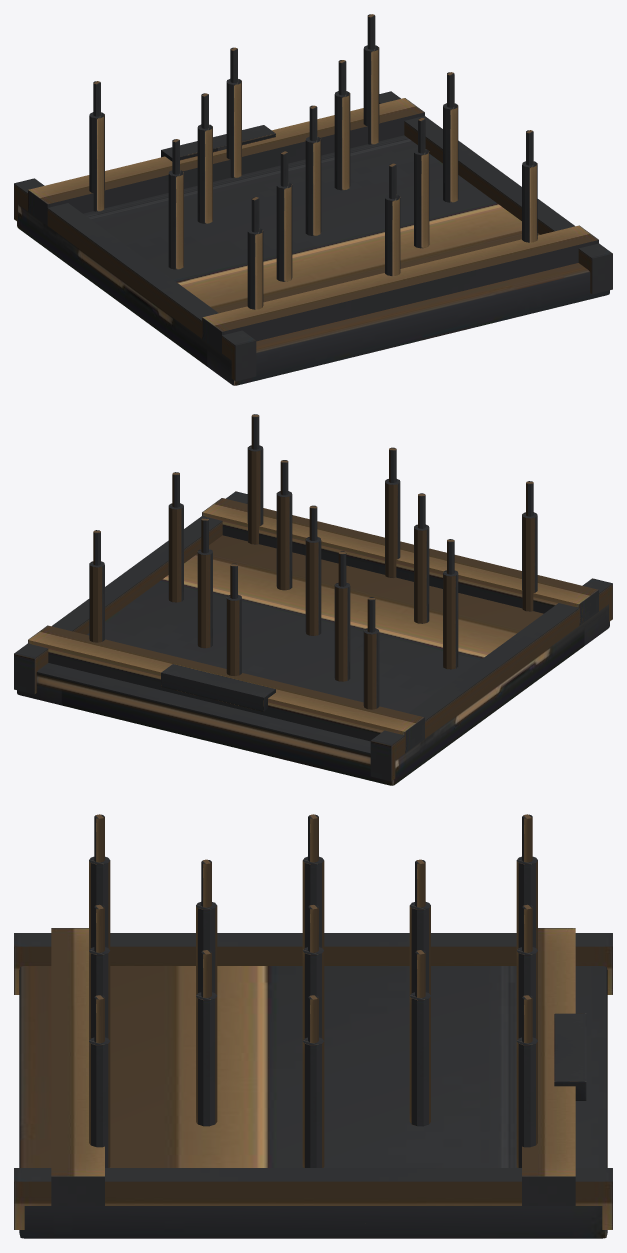
Rendered from DD_trap_spikes.glb.
3 renders of one model, top to bottom at view 1: azimuth 30°, elevation 25°; view 2: azimuth 150°, elevation 25°; view 3: azimuth 270°, elevation 25°, orthographic. The views are drawn at different scales.
Parts seen in each view (by area): view 1: DD_trap_spikes; view 2: DD_trap_spikes; view 3: DD_trap_spikes.
Part boxes in pixels (left/top/right/bottom): DD_trap_spikes: left=14, top=14, right=612, bottom=385; DD_trap_spikes: left=14, top=414, right=612, bottom=785; DD_trap_spikes: left=14, top=814, right=612, bottom=1238.
Size of the model in its own units: 1.1 by 0.43 by 1.12.
1 material, 1 textured.
